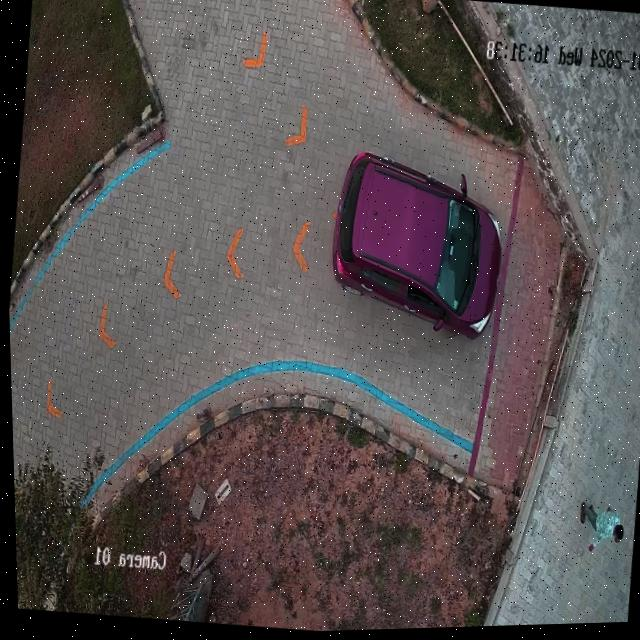car: (330, 155, 499, 341)
